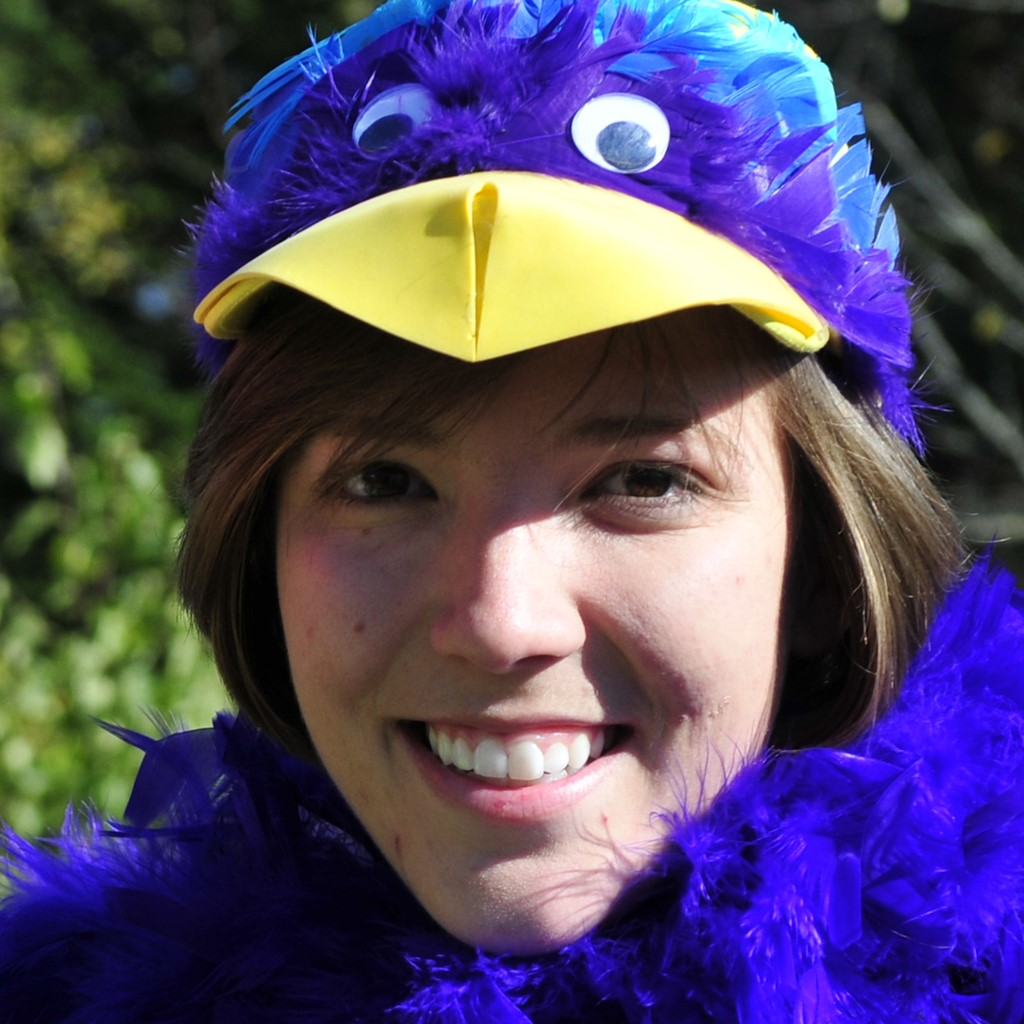sin_mascara: (274, 173, 812, 982)
